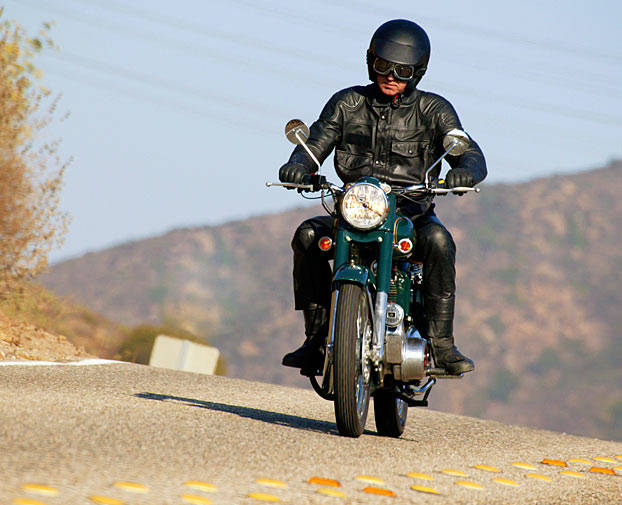motorcycle: (265, 118, 484, 439)
